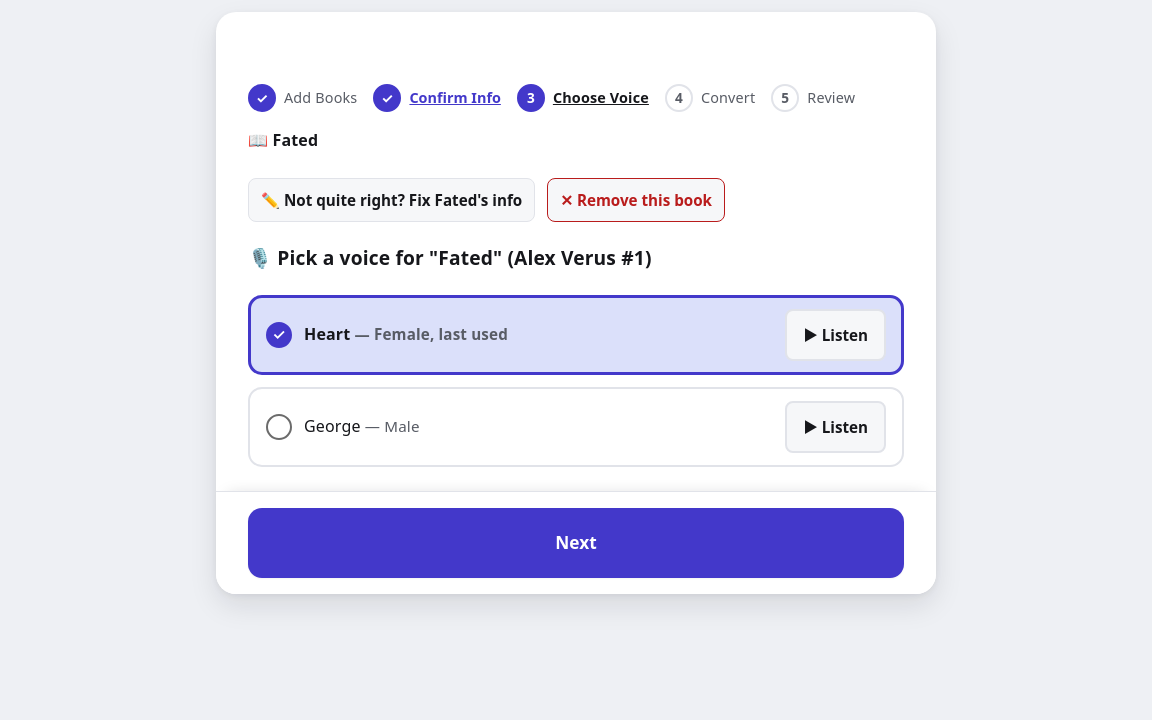
it: VoiceAssignmentScreen › single-book mode's step-progress bar also opens the same edit-metadata overlay
Expected: the text "Heart" is shown, left=304, top=323, right=350, bottom=345
Step 1. Click the button "Confirm Info" → coordinates (455, 98), box left=409, top=76, right=501, bottom=120
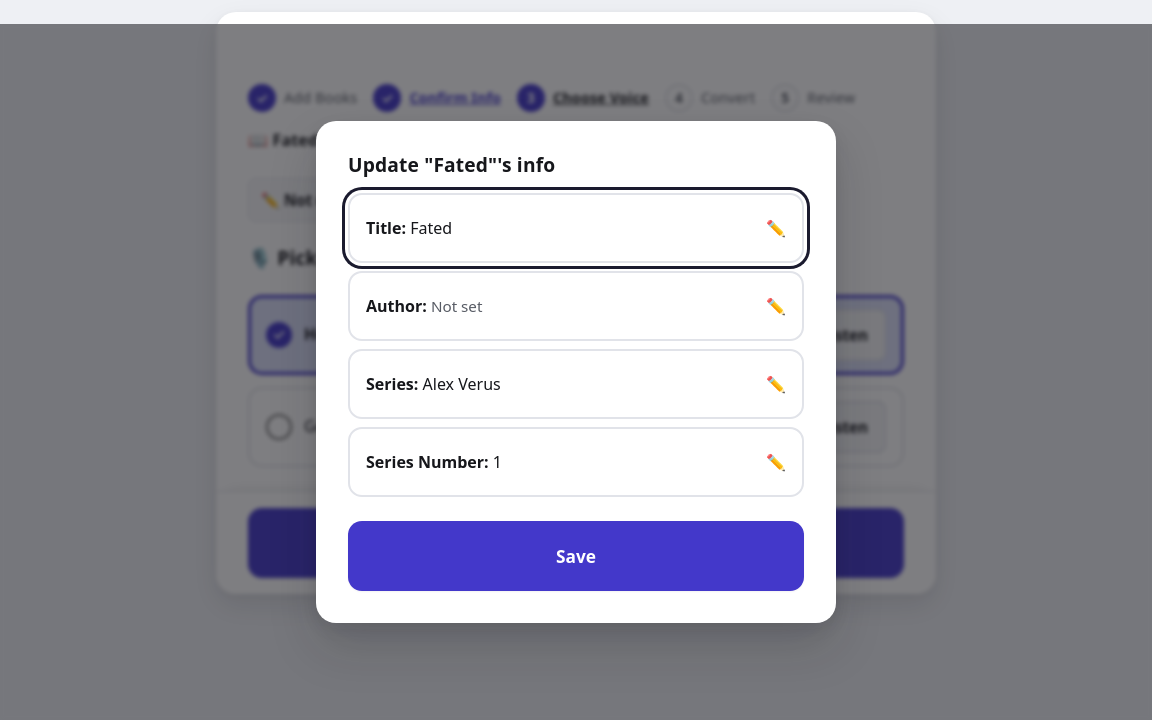
Expected: the dialog "Update \"Fated\"'s info" is shown, left=316, top=120, right=836, bottom=624
